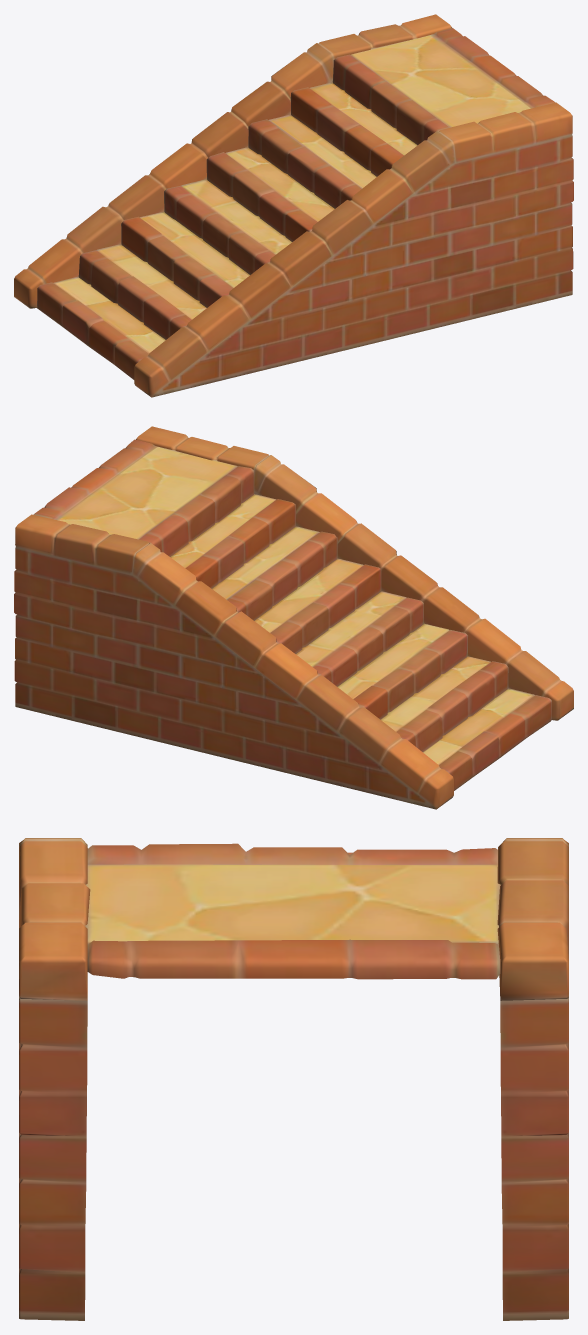
Rendered from stairs-brick-stair.glb.
3 views of the same model, one above another, from view 1: azimuth 30°, elevation 25°; view 2: azimuth 150°, elevation 25°; view 3: azimuth 270°, elevation 25° (orthographic). The views are drawn at different scales.
Bounding box in the file's own units: 37.8 × 15.51 × 21.2.
1 material, 1 textured.
